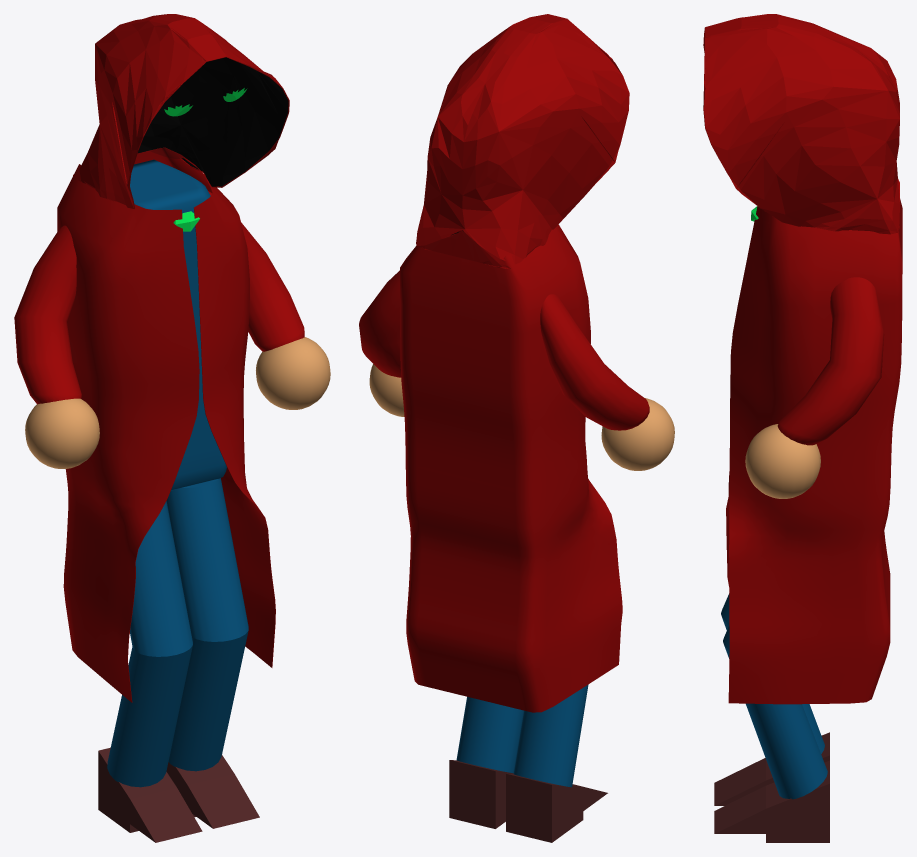
The model's file is MainCharacter.fbx.
3 views of the same model, side by side, from view 1: azimuth 30°, elevation 25°; view 2: azimuth 150°, elevation 25°; view 3: azimuth 270°, elevation 25° (orthographic). The views are drawn at different scales.
Parts seen in each view (by area): view 1: pPlane1, pPlane2, pCylinder5, pCylinder4, pCylinder2, pCube2, pSphere4, pCube3, pSphere2, pSphere3, pCylinder3, pCube4; view 2: pPlane1, pPlane2, pCylinder2, pCylinder4, pCube3, pCylinder5, pCube4, pSphere2, pCylinder3, pSphere3; view 3: pPlane1, pPlane2, pCylinder3, pCube4, pCylinder5, pSphere3, pCube3, pCylinder4.
Part boxes in pixels (<box>): pPlane1: <box>57,147,275,702</box>; pPlane2: <box>73,14,289,209</box>; pCylinder5: <box>166,478,248,771</box>; pCylinder4: <box>107,501,192,787</box>; pCylinder2: <box>14,225,81,404</box>; pCube2: <box>130,159,226,490</box>; pSphere4: <box>141,59,238,158</box>; pCube3: <box>98,747,202,842</box>; pSphere2: <box>25,398,99,468</box>; pSphere3: <box>256,337,330,409</box>; pCylinder3: <box>208,191,304,351</box>; pCube4: <box>166,755,259,828</box>; pPlane1: <box>400,224,622,712</box>; pPlane2: <box>416,14,629,268</box>; pCylinder2: <box>540,294,649,430</box>; pCylinder4: <box>513,684,588,787</box>; pCube3: <box>506,773,607,842</box>; pCylinder5: <box>456,696,523,773</box>; pCube4: <box>449,760,513,828</box>; pSphere2: <box>601,398,674,470</box>; pCylinder3: <box>359,270,401,377</box>; pSphere3: <box>369,364,404,416</box>; pPlane1: <box>726,199,902,704</box>; pPlane2: <box>703,14,899,234</box>; pCylinder3: <box>777,277,884,445</box>; pCube4: <box>714,760,829,842</box>; pCylinder5: <box>723,626,827,799</box>; pSphere3: <box>745,424,820,498</box>; pCube3: <box>714,732,829,805</box>; pCylinder4: <box>721,593,824,753</box>.
Size of the model in its own units: 4.3 by 10.93 by 2.47.
